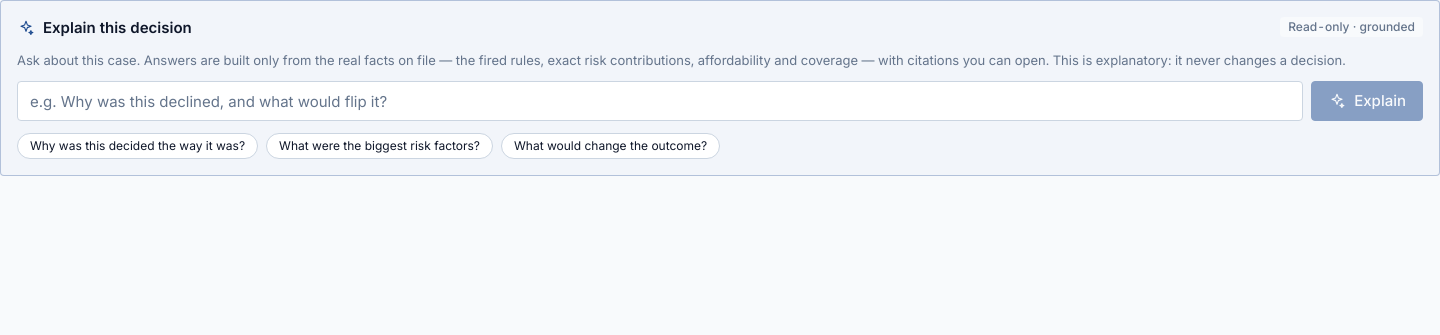
Test: ExplainDecisionPanel › posts the question and renders the grounded answer with citations
The width and height of the screenshot is (1440, 335).
Click the button "Why was this decided the way it was?".
click(138, 146)  # box [17,133,258,159]
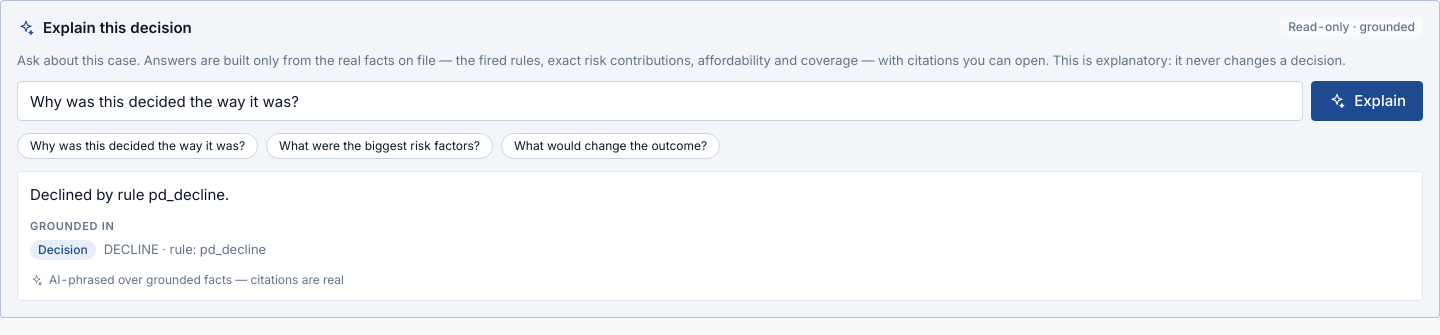
Expected: the text "Declined by rule pd_decline." is shown, [30,185,229,204]
Expected: the text "DECLINE · rule: pd_decline" is shown, [104,241,266,257]
Expected: the text "AI-phrased over grounded facts — citations are real" is shown, [30,272,344,287]
